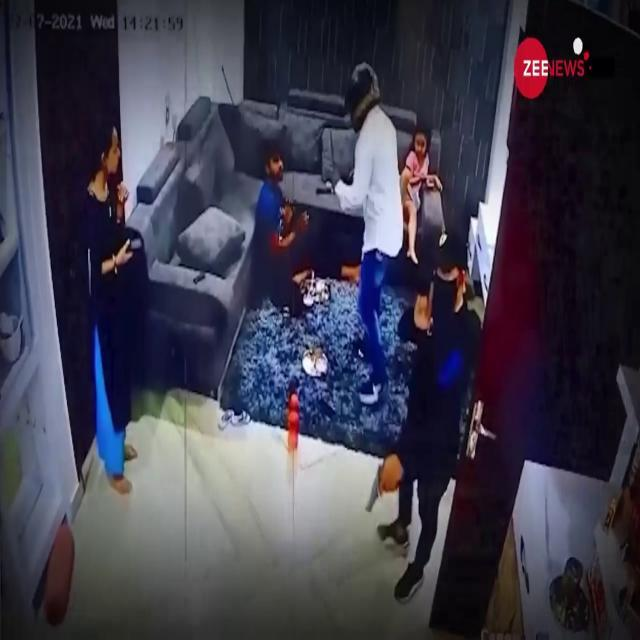weapon: (364, 461, 392, 515)
